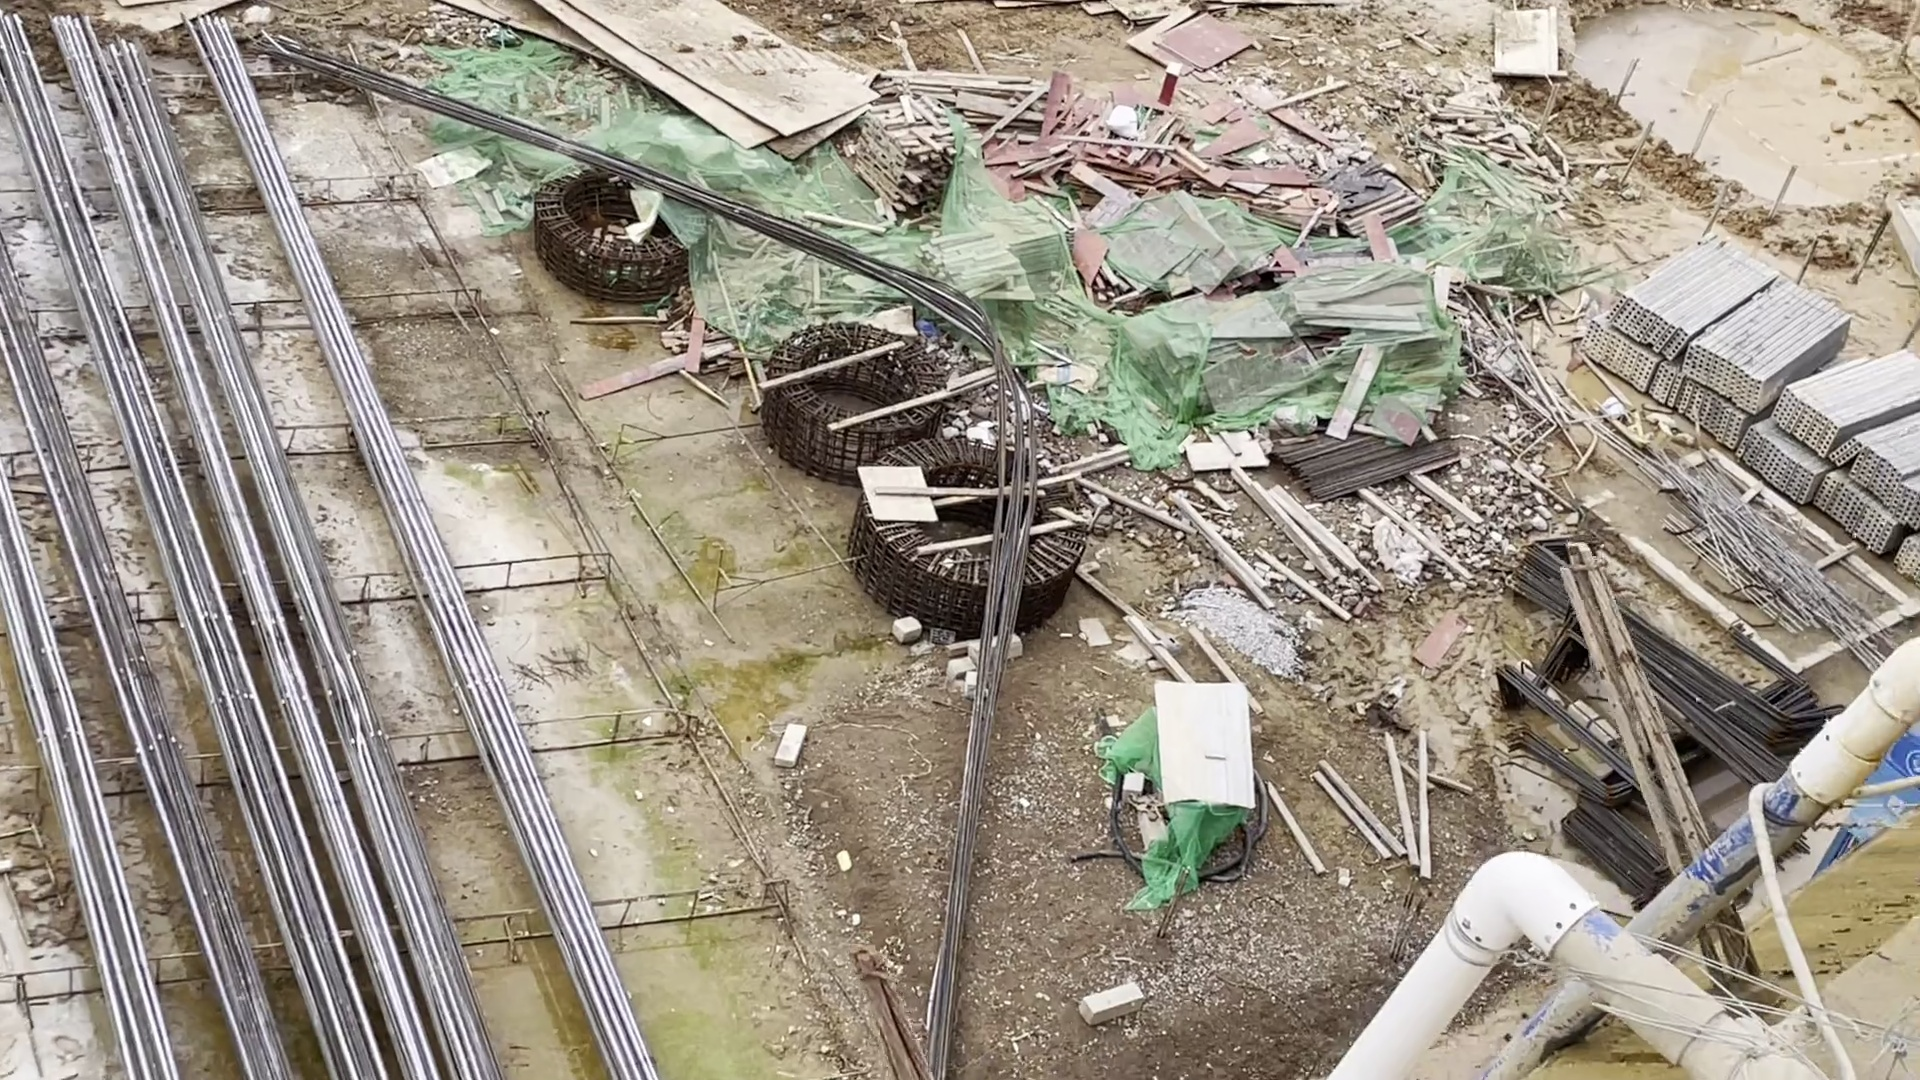board: (547, 1, 814, 164), (1036, 104, 1298, 204)
rebar: (1, 9, 469, 1080)
scaffold: (1592, 229, 1920, 559)
